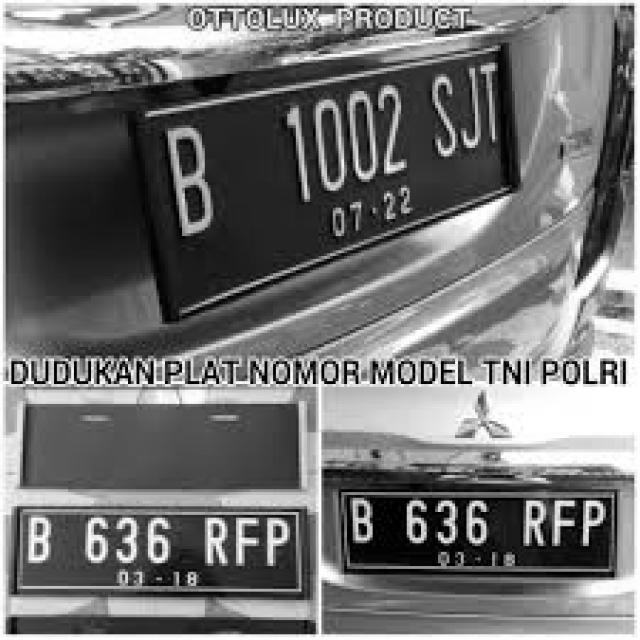0: (312, 99, 354, 200), (346, 89, 382, 183)
1: (279, 104, 319, 208)
2: (376, 81, 414, 177)
3: (115, 514, 138, 568), (436, 496, 458, 546)
6: (78, 510, 109, 576), (143, 513, 173, 574), (404, 499, 436, 548), (464, 498, 492, 546)
B: (163, 126, 224, 238), (20, 511, 56, 574), (351, 498, 378, 545)
F: (230, 508, 260, 566), (552, 498, 580, 548)
J: (459, 66, 483, 156)
P: (264, 513, 294, 576), (580, 499, 606, 547)
R: (200, 513, 228, 584), (520, 499, 550, 548)
S: (430, 74, 461, 160)
T: (478, 59, 502, 143)
